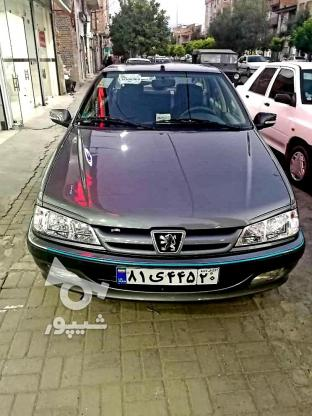car: (114, 266, 221, 286)
